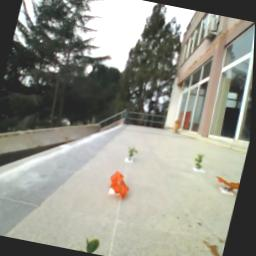herb: (194, 154, 208, 173), (126, 147, 141, 163)
wild: (107, 170, 138, 202), (213, 173, 244, 194)
